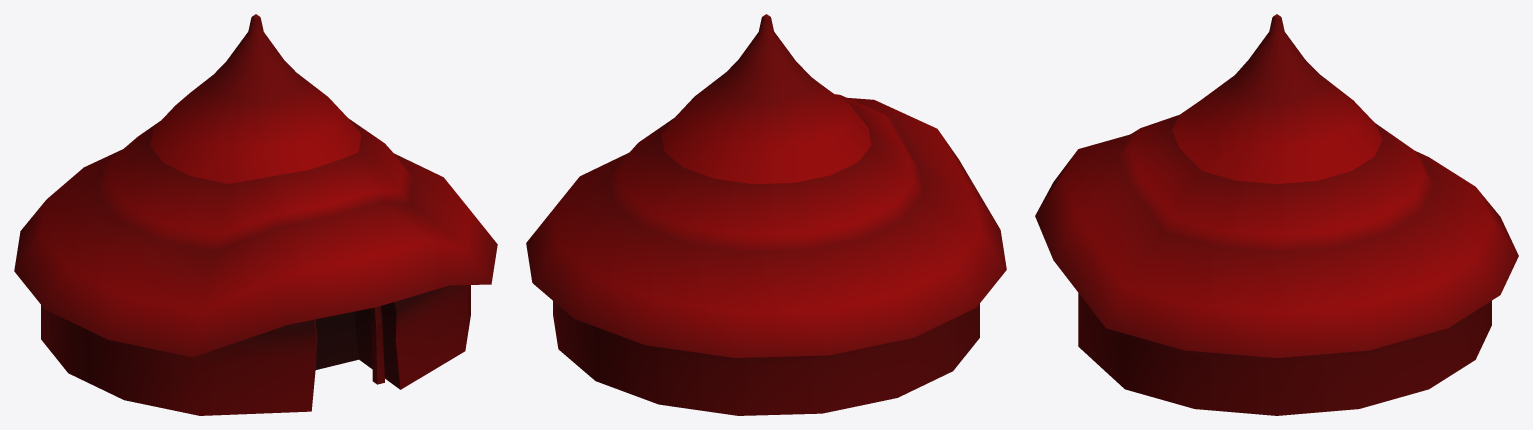
The model's file is buildings-historical-roundhouse_v2.fbx.
The picture shows the model from 3 angles, left to right: view 1: azimuth 30°, elevation 25°; view 2: azimuth 150°, elevation 25°; view 3: azimuth 270°, elevation 25°; orthographic projection.
Parts seen in each view (by area): view 1: Roundhouse_v2; view 2: Roundhouse_v2; view 3: Roundhouse_v2.
Part boxes in pixels (x1,y1,x2,y2): Roundhouse_v2: [14, 14, 497, 415]; Roundhouse_v2: [526, 14, 1006, 415]; Roundhouse_v2: [1035, 14, 1518, 415].
Size of the model in its own units: 11.59 by 8.22 by 11.59.
